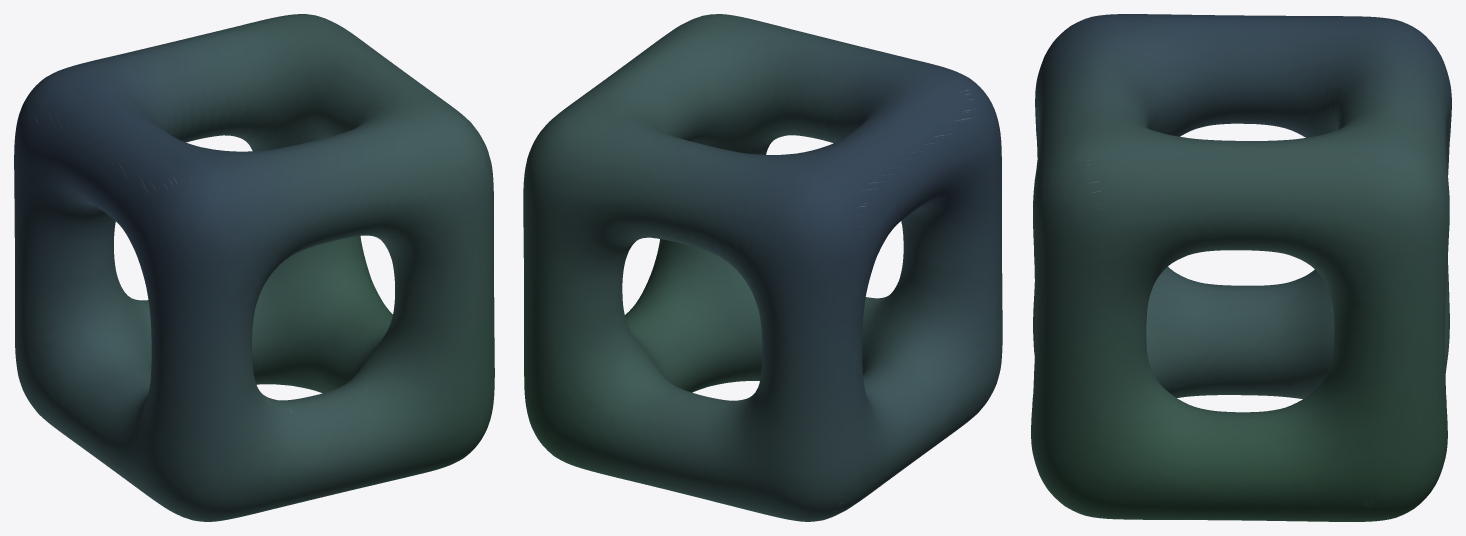
File: 05_squube_inactive.glb
The picture shows the model from 3 angles, left to right: view 1: azimuth 30°, elevation 25°; view 2: azimuth 150°, elevation 25°; view 3: azimuth 270°, elevation 25°; orthographic projection. The views are drawn at different scales.
Visible parts, largest first — view 1: inactive; view 2: inactive; view 3: inactive.
Boxes of the visible parts, x1,y1,x2,y2 form: inactive: (14, 14, 494, 521); inactive: (523, 14, 1002, 521); inactive: (1031, 14, 1451, 521).
Size of the model in its own units: 0.0875 by 0.0878 by 0.0881.
Materials: 1 (1 with a texture image).
